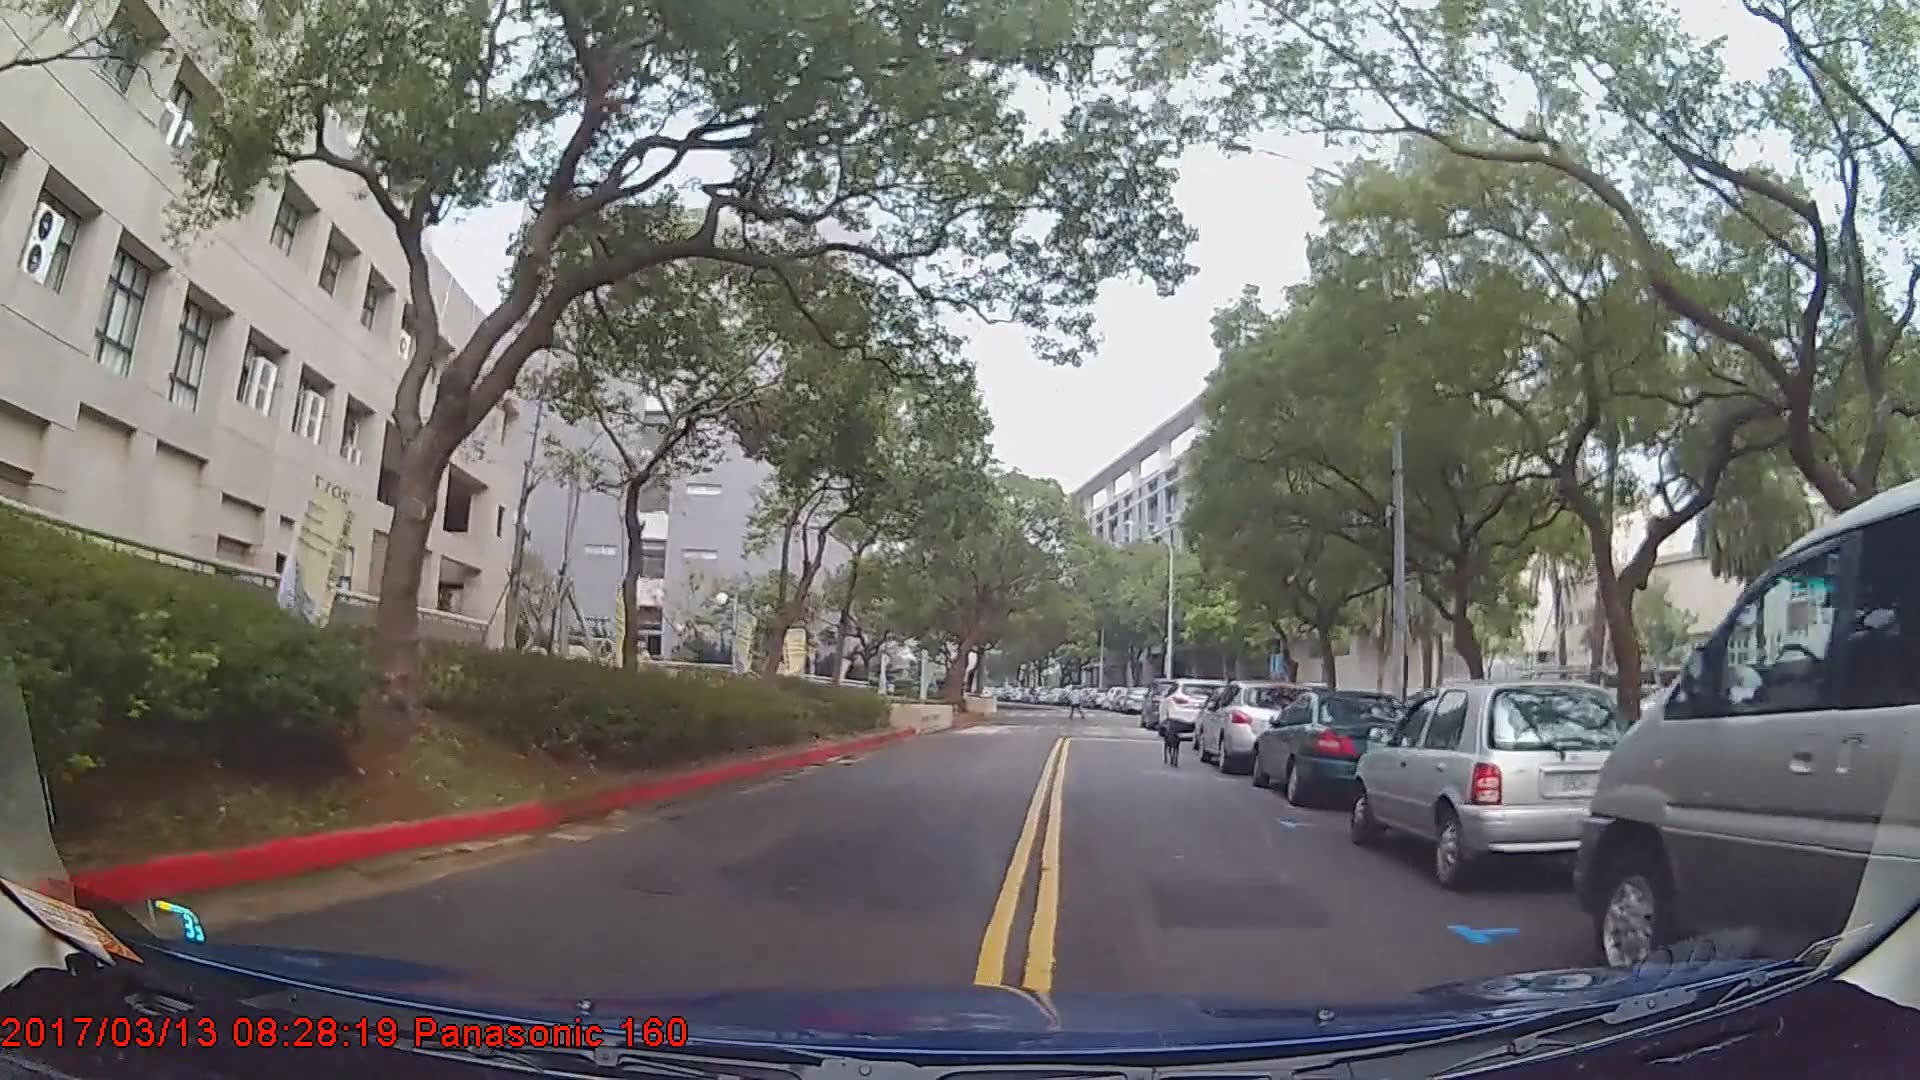pedestrian: (1066, 682, 1086, 721)
vehicle: (1571, 473, 1920, 984), (1355, 679, 1652, 887), (1251, 687, 1424, 809), (1197, 677, 1312, 772), (1159, 676, 1231, 738)
